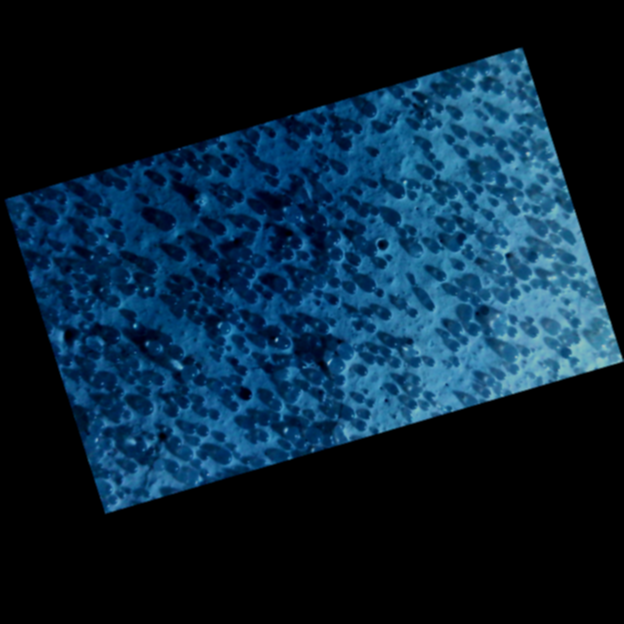GrassBeadSeg: (110, 161, 500, 504), (115, 161, 531, 482), (205, 66, 522, 470), (80, 185, 483, 502), (155, 88, 461, 471), (187, 127, 571, 432), (222, 65, 517, 445), (91, 98, 405, 450), (167, 80, 476, 433), (154, 82, 505, 384), (192, 80, 474, 444), (182, 143, 500, 460), (107, 121, 421, 438), (127, 203, 490, 473), (130, 128, 528, 370), (68, 161, 549, 358), (112, 153, 491, 398), (93, 224, 471, 466), (149, 206, 538, 439), (111, 204, 532, 419), (102, 251, 475, 493), (106, 104, 494, 335), (151, 186, 469, 436), (211, 136, 487, 419), (117, 164, 555, 339), (235, 135, 523, 385), (175, 186, 458, 436), (222, 128, 481, 400), (127, 140, 507, 321), (225, 211, 495, 461), (180, 103, 376, 447), (110, 109, 464, 299), (40, 198, 368, 403), (190, 188, 463, 433), (174, 153, 431, 413), (200, 239, 502, 459), (167, 288, 521, 472), (61, 171, 496, 319), (203, 123, 410, 425), (31, 216, 338, 417), (164, 135, 456, 336), (119, 180, 460, 352), (182, 141, 428, 379), (46, 208, 363, 390), (91, 234, 513, 370), (217, 110, 457, 346), (136, 291, 464, 453), (260, 162, 560, 335), (93, 177, 550, 289), (104, 208, 421, 366), (142, 254, 518, 386), (131, 283, 363, 492), (229, 132, 503, 304), (231, 264, 530, 415), (364, 112, 509, 410), (103, 371, 506, 478), (181, 157, 398, 348), (86, 209, 269, 435), (80, 223, 345, 378), (125, 281, 575, 372), (171, 258, 386, 448), (87, 287, 557, 373), (219, 115, 397, 341), (106, 199, 355, 353), (101, 199, 495, 296), (117, 357, 415, 483), (250, 146, 508, 288), (168, 211, 345, 416), (272, 284, 532, 421), (292, 142, 480, 331), (141, 226, 330, 414), (275, 221, 452, 419), (370, 135, 527, 354), (120, 234, 346, 386), (165, 265, 364, 434), (267, 103, 445, 291), (338, 164, 532, 336), (70, 224, 479, 305), (194, 115, 524, 213), (371, 207, 521, 418), (379, 128, 495, 399), (107, 355, 375, 469), (187, 153, 548, 236), (256, 202, 454, 351), (116, 236, 301, 395), (86, 285, 268, 442), (173, 184, 401, 309), (283, 141, 426, 340), (110, 291, 510, 362), (102, 376, 495, 448), (290, 148, 470, 305), (211, 326, 539, 412), (222, 206, 541, 293), (143, 302, 436, 396), (27, 148, 380, 226), (196, 172, 313, 406), (329, 153, 515, 300), (120, 388, 369, 497), (208, 276, 530, 356), (206, 165, 299, 439), (81, 285, 386, 366), (65, 206, 370, 285), (240, 265, 533, 346), (80, 178, 306, 283), (409, 238, 577, 378), (12, 205, 147, 375), (116, 125, 311, 240), (220, 323, 429, 429), (202, 209, 284, 477), (363, 285, 527, 418), (101, 247, 275, 371), (88, 253, 278, 362), (110, 295, 506, 347), (324, 191, 514, 296), (450, 88, 541, 296), (22, 204, 131, 375), (84, 182, 223, 309), (233, 157, 388, 269), (144, 196, 250, 354), (412, 181, 570, 285), (215, 199, 361, 307), (251, 347, 412, 444), (113, 204, 195, 394), (146, 195, 308, 291), (410, 79, 542, 193), (56, 206, 380, 252), (370, 192, 476, 331), (283, 248, 376, 406), (399, 128, 533, 237), (130, 247, 344, 313), (330, 168, 433, 304), (318, 115, 518, 184), (328, 148, 465, 246), (74, 184, 178, 306), (207, 277, 324, 385), (230, 221, 455, 276), (262, 162, 337, 327), (371, 148, 418, 409), (239, 247, 341, 366), (123, 267, 306, 333), (178, 157, 241, 348), (291, 236, 392, 355), (199, 365, 368, 436), (171, 219, 256, 359), (514, 194, 595, 339), (221, 166, 304, 305), (364, 105, 418, 318), (193, 261, 466, 301), (107, 288, 215, 388), (250, 219, 300, 433), (313, 140, 433, 229), (89, 208, 209, 297), (229, 313, 340, 408), (296, 288, 384, 405), (108, 329, 360, 369), (158, 175, 220, 336), (321, 321, 421, 419), (239, 347, 570, 376), (244, 247, 301, 414), (370, 180, 509, 248), (225, 198, 327, 287), (272, 178, 330, 333), (230, 357, 396, 411), (95, 176, 169, 297), (374, 179, 411, 419), (288, 248, 430, 310), (175, 173, 268, 267), (309, 317, 581, 349), (265, 291, 516, 324), (453, 280, 549, 366), (189, 279, 412, 316), (325, 89, 451, 154), (399, 331, 501, 411), (117, 179, 190, 290), (285, 206, 377, 291), (456, 139, 548, 224), (457, 232, 505, 394), (201, 165, 234, 399), (409, 226, 479, 336), (217, 266, 256, 463), (195, 346, 271, 445), (222, 182, 517, 207), (53, 309, 220, 353), (436, 270, 555, 330), (517, 180, 581, 290), (367, 323, 571, 357), (13, 172, 130, 230), (66, 296, 373, 318), (481, 193, 544, 299), (114, 223, 227, 282), (32, 189, 106, 279), (131, 172, 246, 227), (447, 327, 612, 365), (195, 316, 285, 385), (93, 197, 114, 491), (51, 254, 137, 325), (301, 363, 519, 391), (289, 79, 413, 128), (248, 146, 340, 211), (325, 230, 392, 319), (128, 306, 209, 379), (145, 243, 377, 268), (458, 164, 561, 219), (71, 326, 140, 404), (328, 301, 408, 367), (482, 253, 577, 307), (464, 207, 518, 301), (396, 327, 515, 368), (390, 336, 468, 395), (124, 411, 195, 475), (445, 331, 580, 364), (409, 323, 462, 407), (483, 247, 562, 301), (258, 283, 354, 327), (500, 315, 609, 353), (217, 166, 232, 441), (144, 458, 247, 498), (45, 277, 148, 317), (230, 401, 367, 431), (289, 388, 379, 433), (113, 172, 185, 228), (250, 254, 361, 290), (129, 374, 274, 401), (197, 253, 284, 298), (416, 182, 473, 250), (226, 303, 250, 463), (439, 130, 490, 205), (283, 290, 321, 390), (178, 141, 201, 304), (305, 226, 322, 443), (428, 64, 483, 131), (65, 358, 122, 422), (315, 98, 412, 135), (347, 138, 406, 198), (304, 353, 398, 389), (219, 315, 313, 351), (240, 177, 280, 260), (494, 185, 537, 262), (98, 452, 290, 469), (498, 120, 551, 181), (531, 309, 576, 379), (504, 155, 519, 360), (146, 260, 245, 291), (246, 381, 310, 428), (270, 166, 282, 410), (214, 204, 302, 235), (321, 123, 388, 163), (270, 102, 346, 137), (387, 179, 418, 260), (311, 199, 500, 212), (60, 196, 80, 315), (156, 166, 280, 185), (245, 282, 357, 302), (281, 355, 345, 389), (281, 240, 316, 300), (283, 363, 305, 458), (227, 378, 326, 399), (286, 142, 319, 205), (63, 235, 98, 293), (200, 236, 249, 276), (105, 425, 133, 495), (83, 259, 124, 306), (500, 311, 573, 336), (281, 368, 316, 420), (148, 277, 197, 314), (91, 413, 110, 507), (66, 234, 112, 272), (489, 115, 547, 145), (259, 123, 323, 150), (63, 196, 104, 235), (485, 234, 559, 255), (198, 131, 272, 151), (189, 353, 234, 385), (441, 210, 476, 251), (479, 147, 531, 174), (330, 236, 365, 275), (532, 201, 555, 260), (297, 389, 319, 449), (357, 224, 394, 259), (396, 88, 482, 103), (320, 211, 401, 226), (311, 172, 321, 287), (161, 334, 243, 348), (410, 232, 467, 252), (437, 110, 497, 128), (395, 82, 493, 93), (421, 77, 458, 105), (94, 402, 131, 430), (265, 353, 314, 374), (513, 319, 581, 334), (197, 374, 209, 459), (541, 164, 568, 200), (534, 279, 592, 295), (242, 277, 260, 328), (443, 310, 472, 341), (196, 362, 226, 391), (460, 175, 508, 193), (407, 338, 421, 397), (102, 254, 138, 276), (207, 250, 259, 265), (568, 338, 607, 358), (276, 319, 301, 349), (372, 337, 415, 352), (29, 197, 37, 270), (277, 240, 309, 258), (486, 263, 509, 287), (302, 252, 327, 274), (518, 98, 537, 126), (461, 281, 482, 306), (455, 65, 484, 83), (552, 287, 560, 349), (28, 262, 73, 273), (88, 420, 107, 446), (560, 269, 586, 287), (344, 122, 385, 133), (513, 90, 539, 107), (519, 57, 533, 88), (528, 161, 543, 189), (53, 309, 62, 355), (69, 371, 82, 401), (510, 277, 542, 289), (188, 459, 202, 486), (305, 299, 321, 322), (455, 184, 468, 210), (497, 54, 521, 68), (455, 68, 477, 83), (212, 327, 225, 352), (591, 328, 606, 349), (100, 226, 118, 243), (475, 174, 485, 204), (176, 153, 197, 167), (426, 101, 440, 122), (508, 82, 525, 99), (462, 280, 469, 321), (489, 253, 504, 272), (478, 97, 491, 117), (474, 298, 490, 314), (532, 141, 545, 160), (479, 64, 501, 75), (559, 265, 579, 277), (358, 223, 368, 246), (100, 267, 112, 286), (188, 357, 205, 370), (458, 202, 480, 211), (566, 335, 582, 347), (557, 267, 587, 273), (554, 224, 563, 243), (452, 241, 469, 251), (320, 266, 337, 276), (341, 138, 353, 150), (179, 304, 193, 313), (335, 389, 345, 398), (322, 255, 331, 264), (427, 358, 435, 365), (448, 361, 452, 366)
